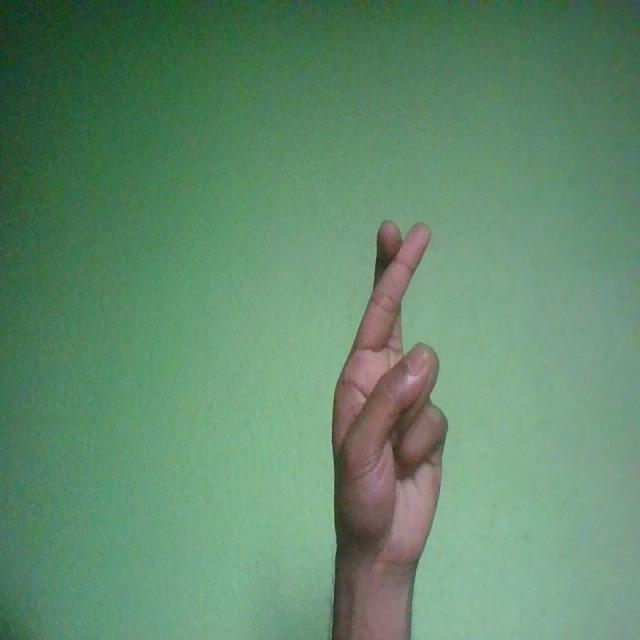Ok: (332, 219, 450, 573)
